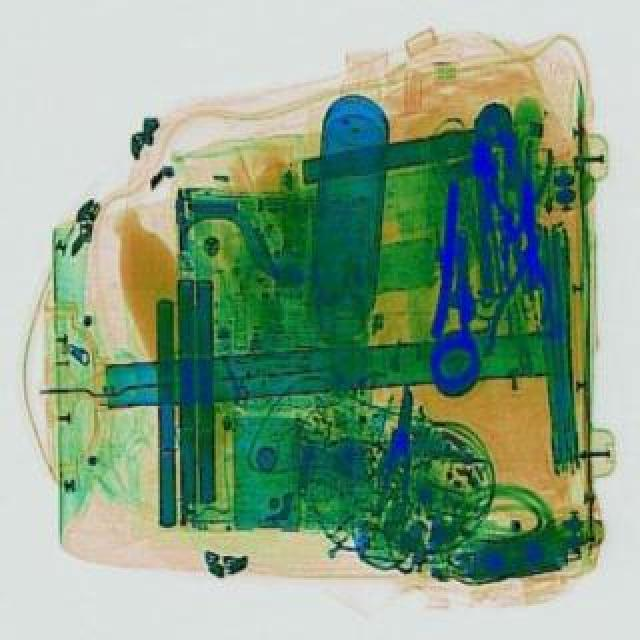wrench: (366, 380, 426, 546), (488, 236, 552, 348), (460, 142, 520, 256), (520, 136, 552, 208)
